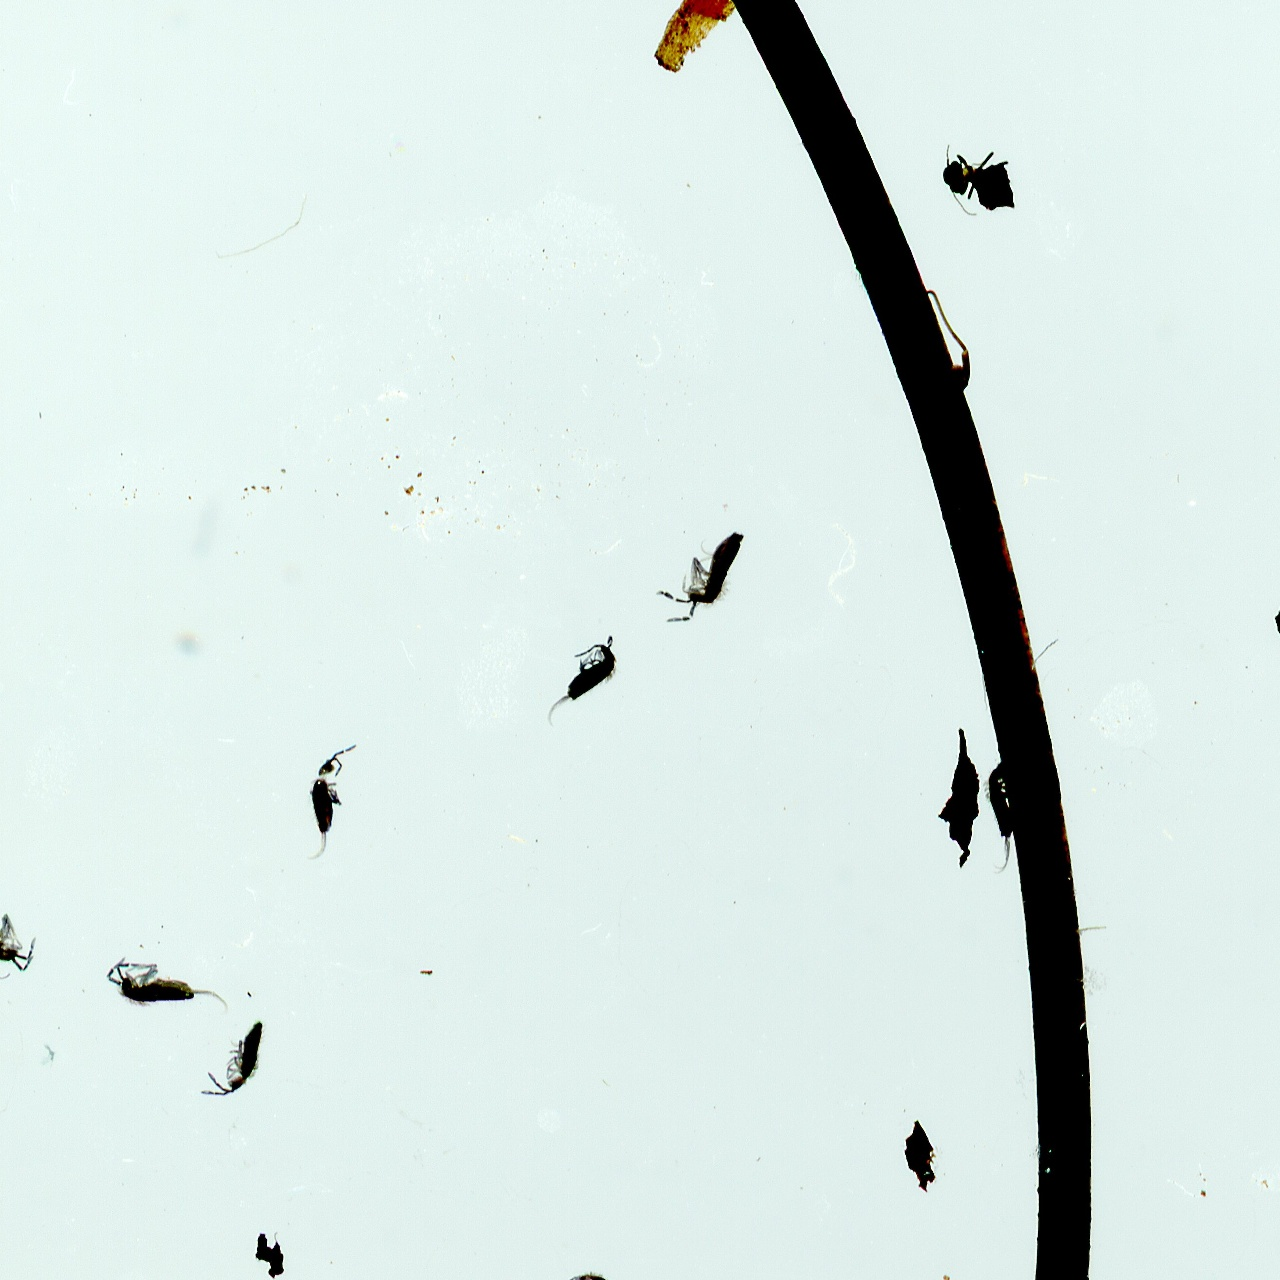arthropod: (641, 496, 764, 648), (524, 617, 645, 750), (102, 941, 239, 1021), (0, 842, 59, 990), (305, 733, 363, 867), (935, 137, 1020, 219), (195, 1014, 267, 1105), (981, 744, 1027, 884), (558, 1258, 639, 1280)
